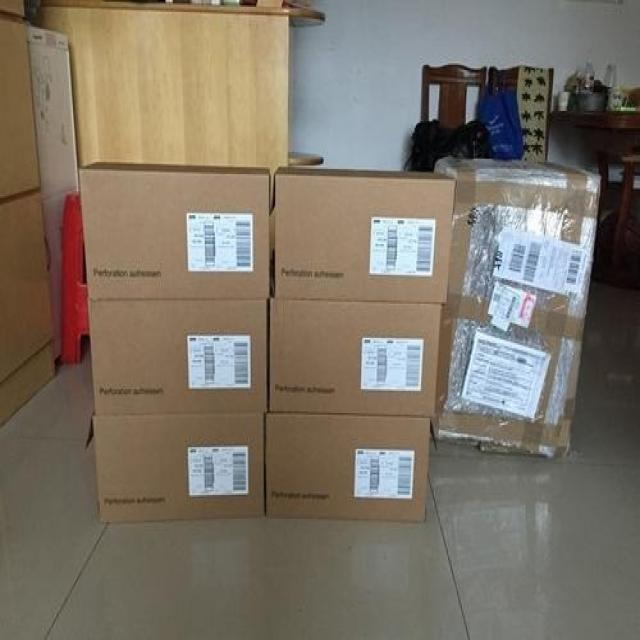Carton: (90, 302, 430, 521), (81, 172, 266, 297), (274, 174, 451, 302), (269, 299, 439, 415)
